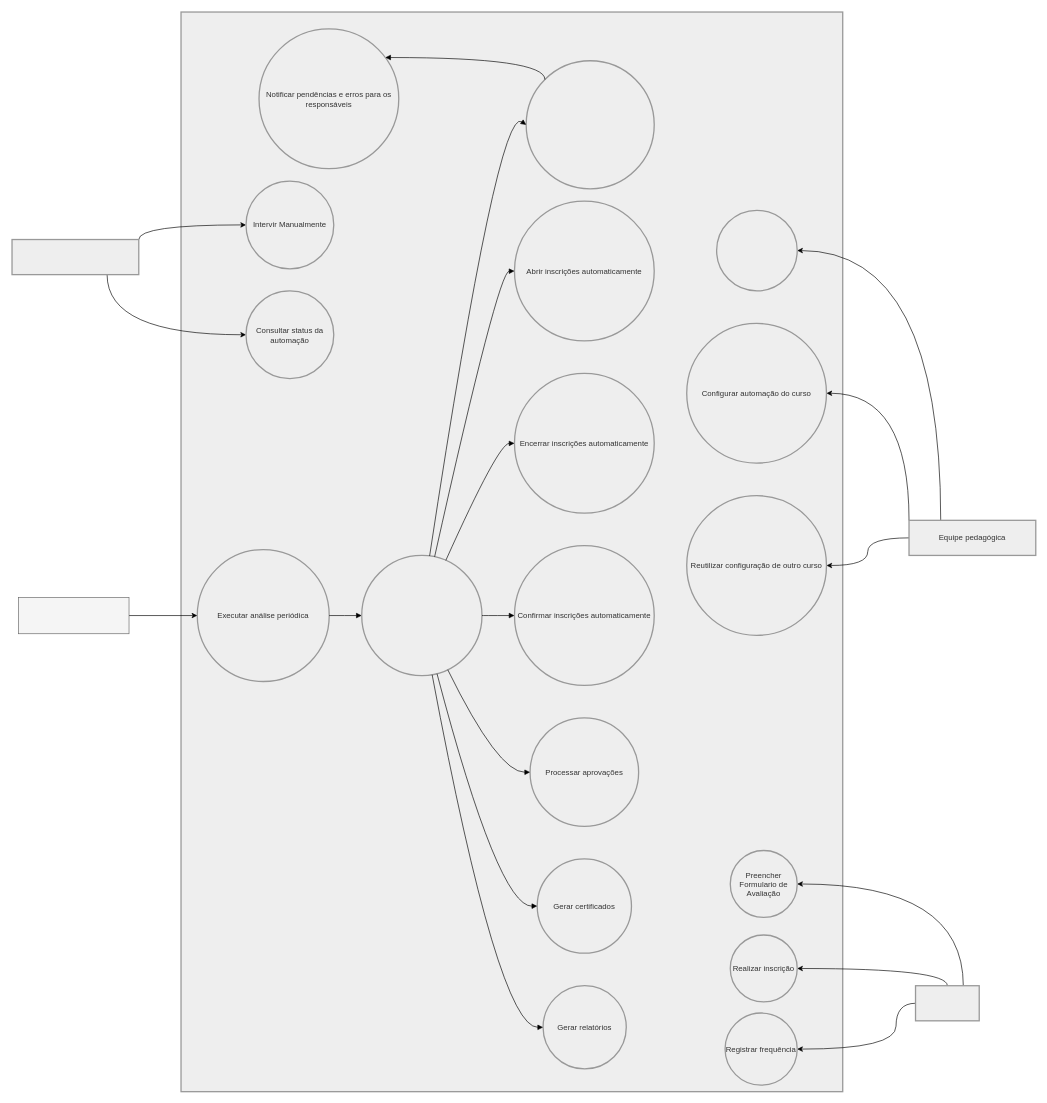
The diagram is 1047 pixels wide and 1103 high, and some of its shapes have lost their labels. Each missing label, with the centre of its shape:
Aluno: point 947,1003
Analisar e Classificar etapas elegiveis do curso: point 421,615
Cadastrar curso: point 757,250
Classificar status do curso: point 590,124
Responsáveis da equipe Pedagógica: point 75,257
SISTEMA EMES AUTOMAÇÃO PEDAGÓGICA: point 73,615
